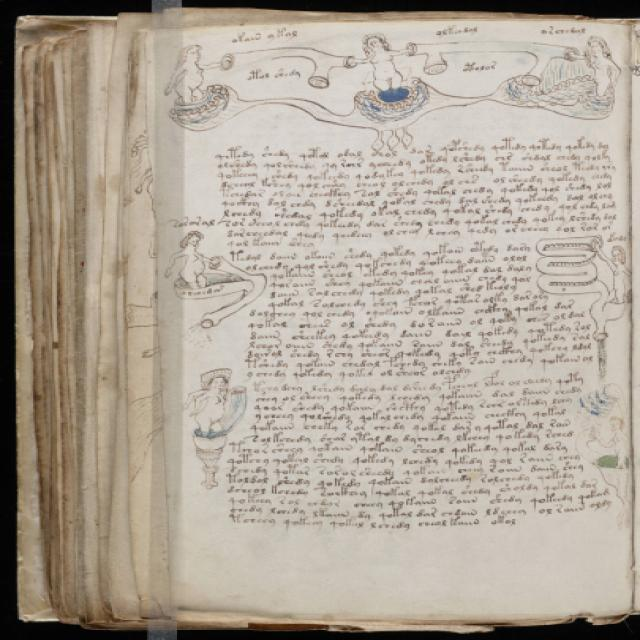person: (156, 38, 212, 115), (181, 369, 236, 447), (154, 228, 221, 292), (567, 30, 623, 99), (357, 29, 411, 98)
